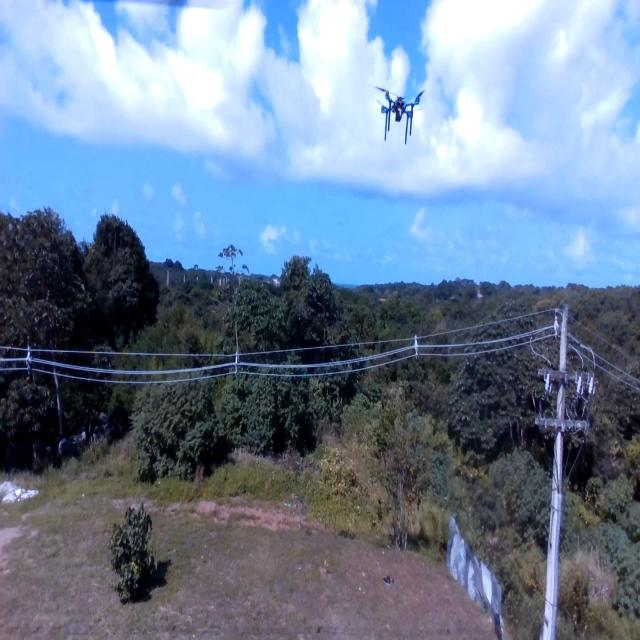-uav-: (367, 70, 432, 158)
